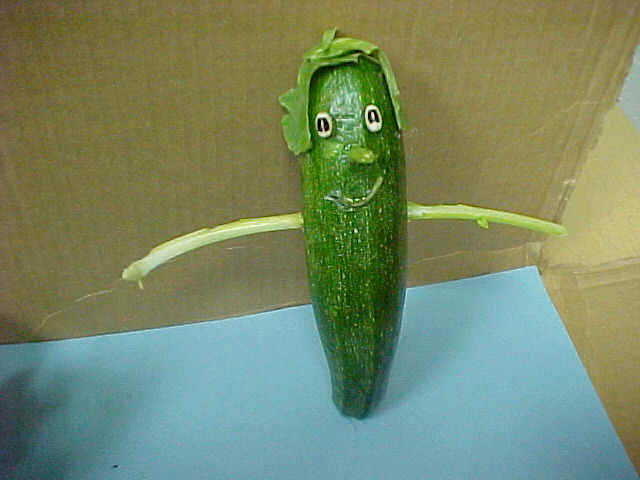cucumber: (295, 55, 407, 420)
